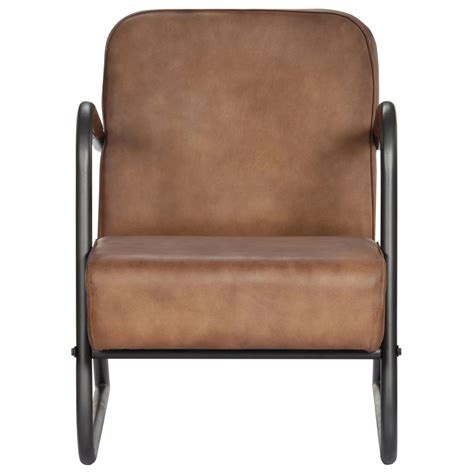cuero: (75, 8, 389, 355)
